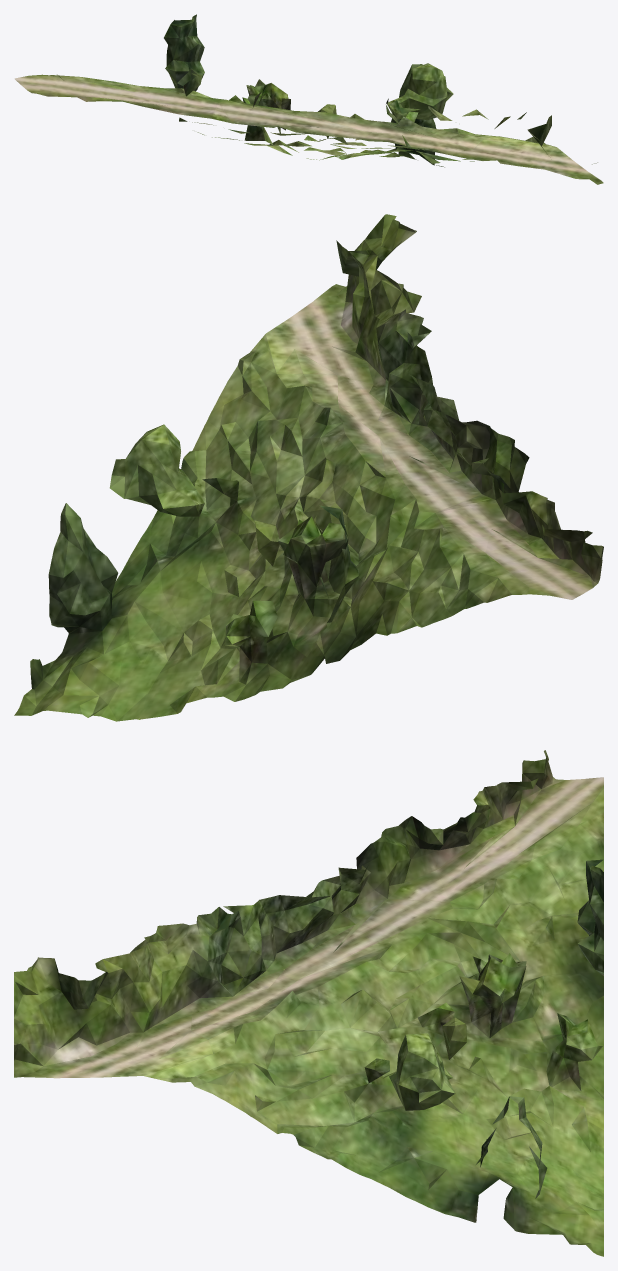
3 renders of one model, top to bottom at view 1: azimuth 30°, elevation 25°; view 2: azimuth 150°, elevation 25°; view 3: azimuth 270°, elevation 25°, orthographic. The views are drawn at different scales.
Bounding box in the file's own units: 52.22 × 25.15 × 52.22.
3 materials, 3 textured.
